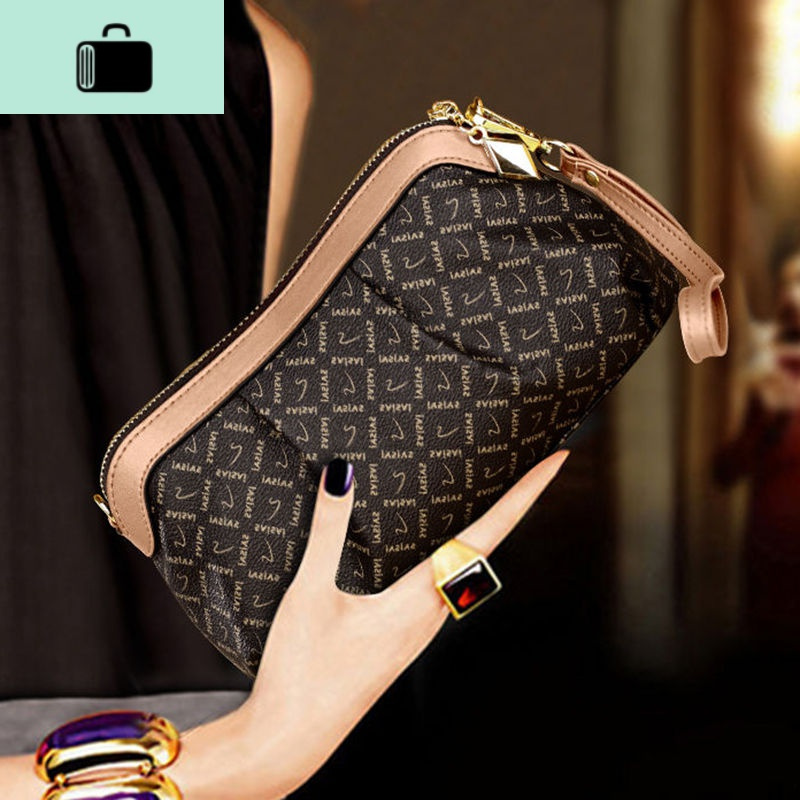no-phone: (106, 74, 698, 796)
